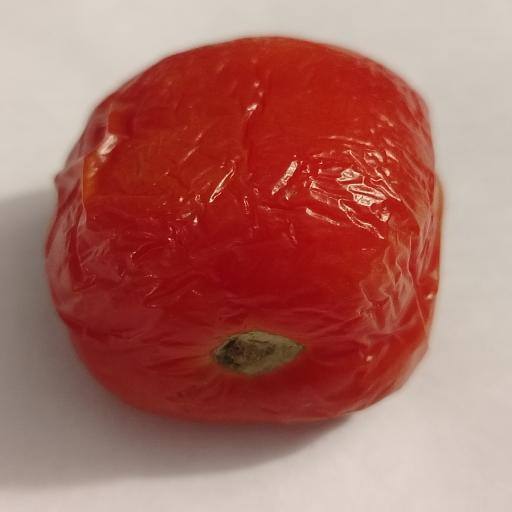spoiled: (46, 37, 442, 422)
